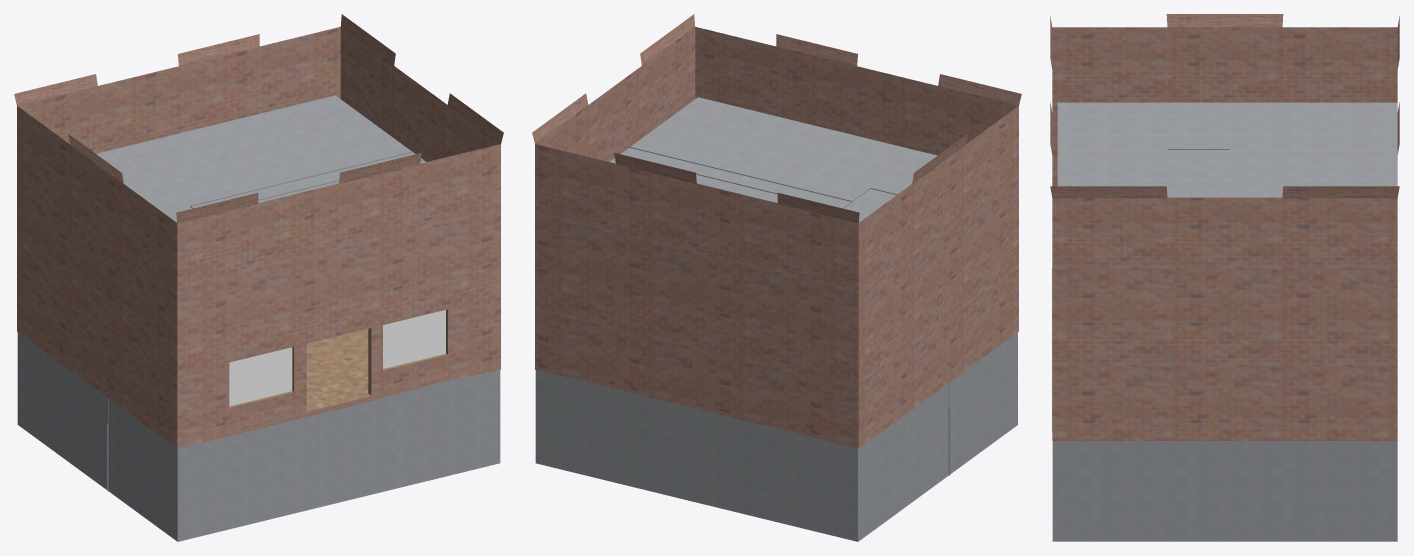
File: BankenV2.glb
3 views of the same model, side by side, from view 1: azimuth 30°, elevation 25°; view 2: azimuth 150°, elevation 25°; view 3: azimuth 270°, elevation 25° (orthographic). The views are drawn at different scales.
Parts seen in each view (by area): view 1: Bankmesh2, Glass; view 2: Bankmesh2; view 3: Bankmesh2.
Boxes of the visible parts, bbox=[...] form: Bankmesh2: bbox=[14, 14, 503, 541]; Glass: bbox=[229, 310, 445, 406]; Bankmesh2: bbox=[532, 14, 1021, 541]; Bankmesh2: bbox=[1050, 14, 1399, 541].
Bounding box in the file's own units: 15.19 × 14.66 × 13.02.
Materials: 2 (1 with a texture image).
